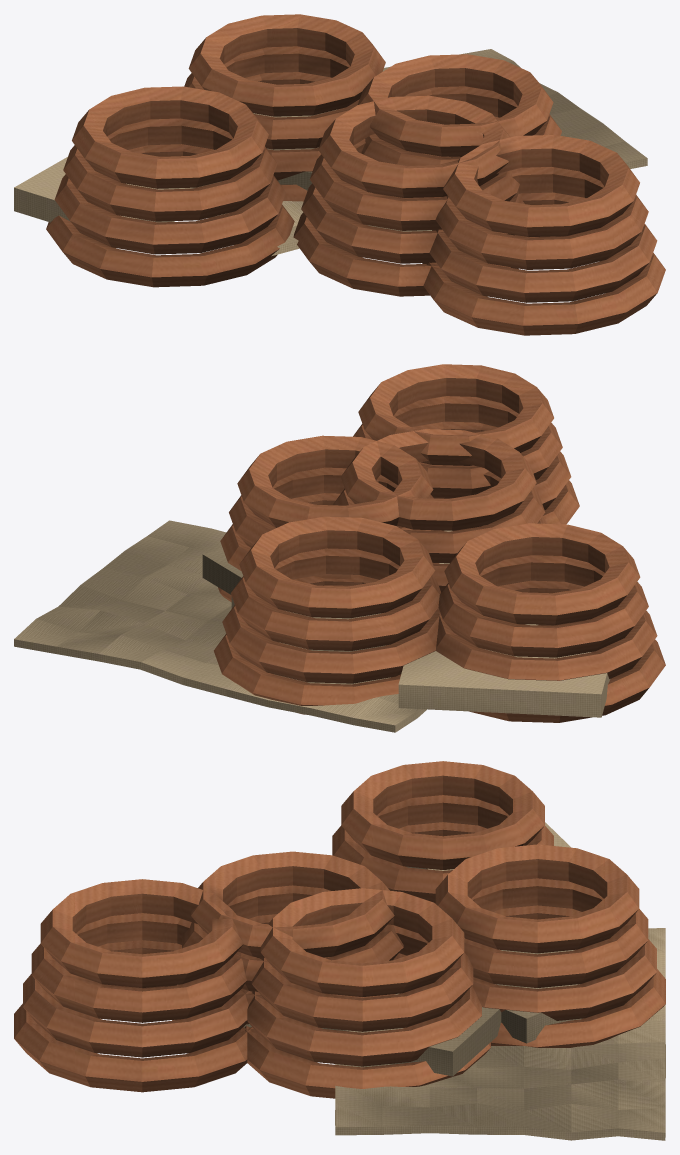
File: mat_rope.glb
3 views of the same model, one above another, from view 1: azimuth 30°, elevation 25°; view 2: azimuth 150°, elevation 25°; view 3: azimuth 270°, elevation 25° (orthographic). The views are drawn at different scales.
Visible parts, largest first — view 1: mat_rope; view 2: mat_rope; view 3: mat_rope.
Part boxes in pixels (box(x1,y1,x2,y2)): mat_rope: box(14, 14, 665, 335); mat_rope: box(14, 364, 665, 732); mat_rope: box(14, 761, 665, 1140).
Bounding box in the file's own units: 0.8611 × 0.1807 × 0.8611.
Materials: 2 (2 with a texture image).
